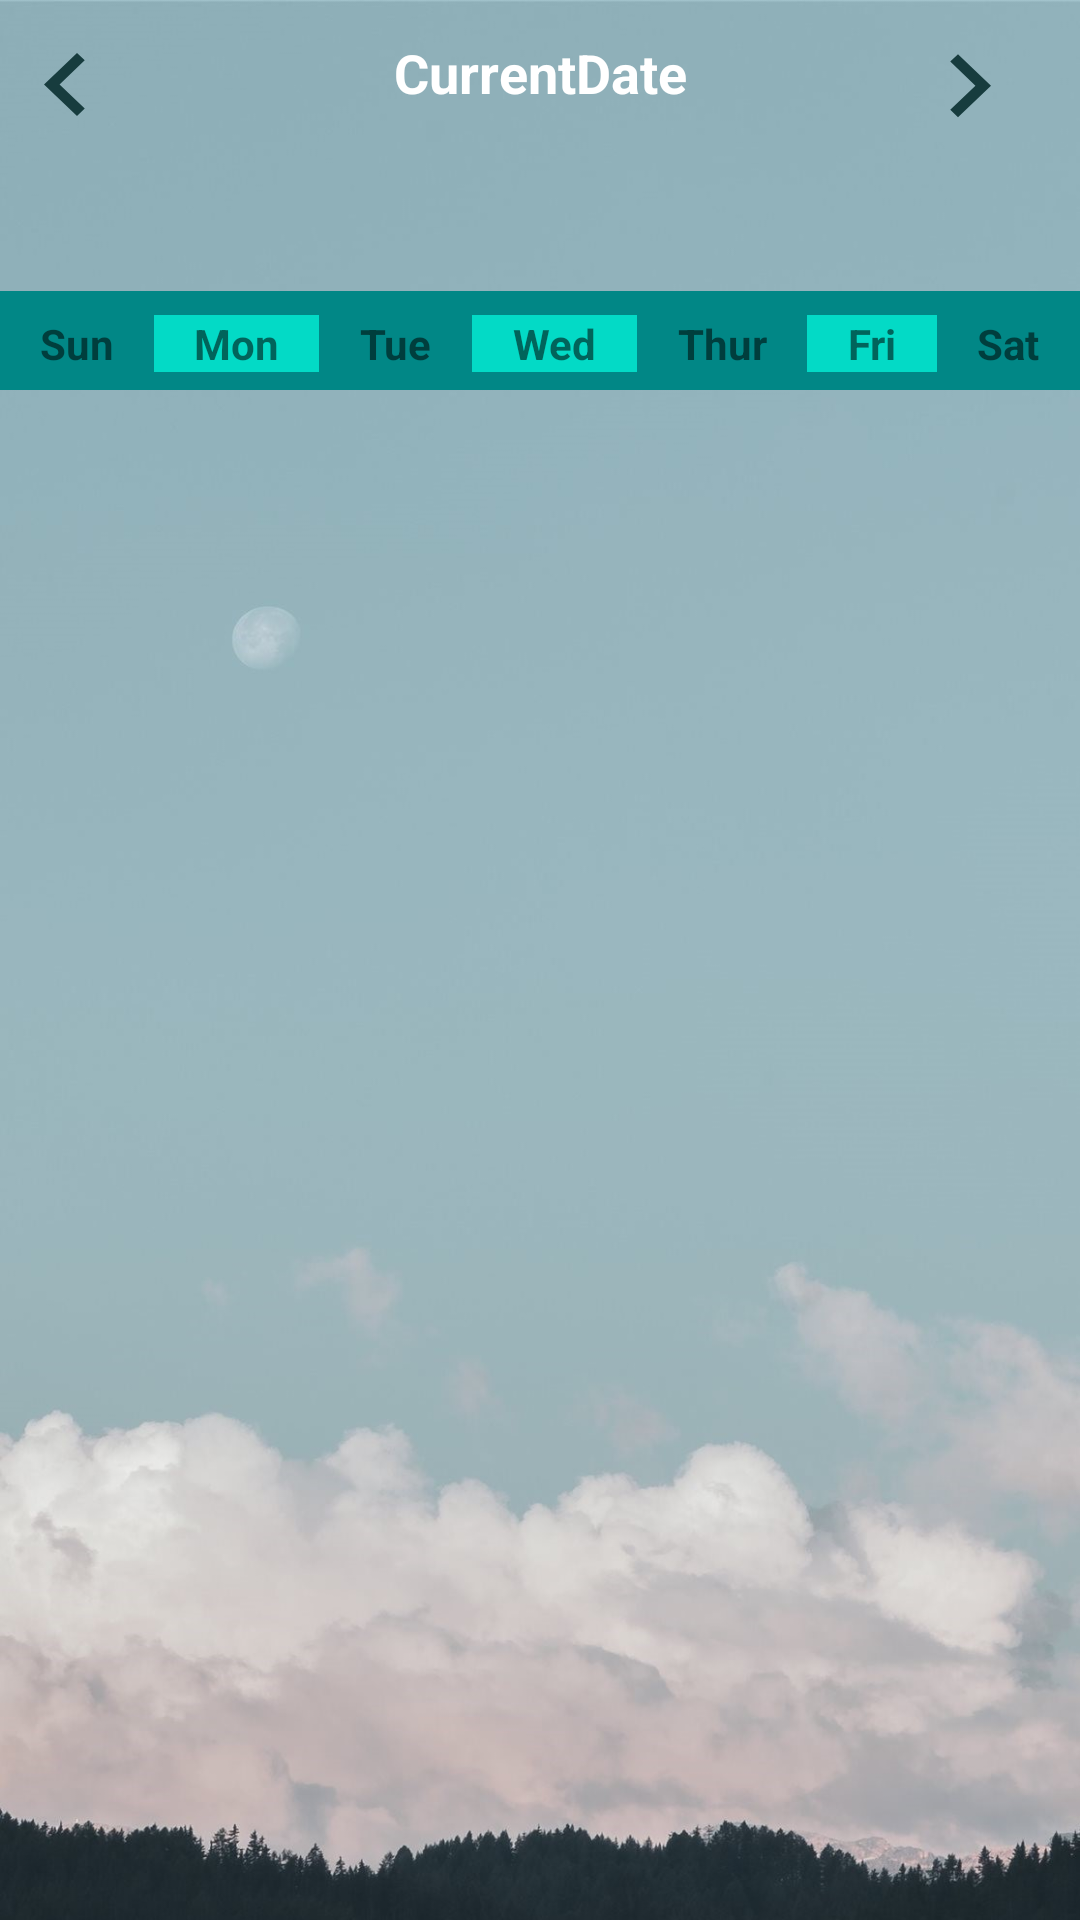

Icon bounding boxes for this 1080w x 1920h phone screenshot, format (x1,y1,x2,y2):
back: (44,53,85,116)
